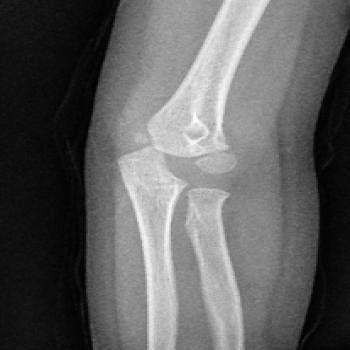Fracture: (188, 154, 247, 202)
